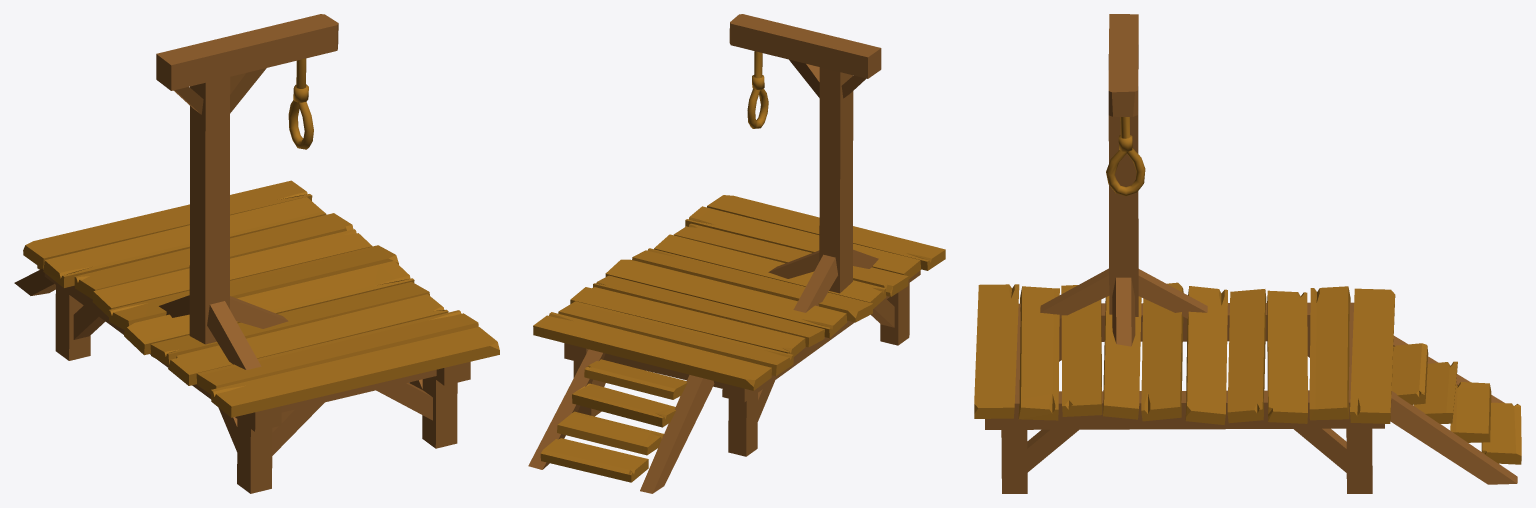
File: forca_1.fbx
3 views of the same model, side by side, from view 1: azimuth 30°, elevation 25°; view 2: azimuth 150°, elevation 25°; view 3: azimuth 270°, elevation 25° (orthographic). The views are drawn at different scales.
Visible parts, largest first — view 1: forca_1; view 2: forca_1; view 3: forca_1.
Part boxes in pixels (x1,y1,x2,y2): forca_1: [14, 14, 499, 493]; forca_1: [528, 14, 945, 493]; forca_1: [974, 14, 1521, 493].
Size of the model in its own units: 298 by 405 by 537.
